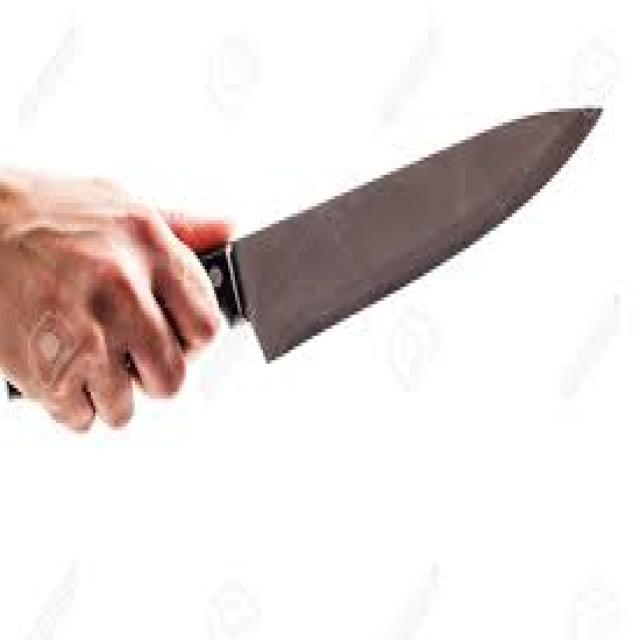Knife: (0, 102, 603, 410)
